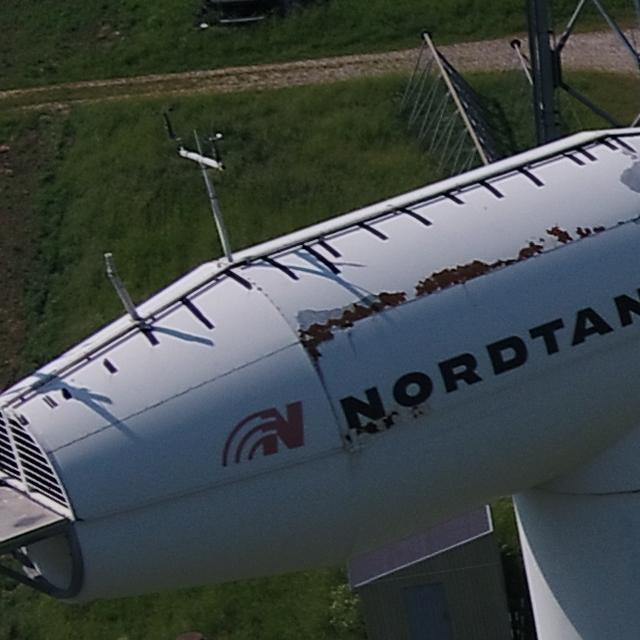damage: (413, 235, 548, 301), (294, 287, 408, 362), (544, 219, 617, 243), (302, 354, 336, 403), (378, 408, 400, 431), (358, 417, 379, 439)
